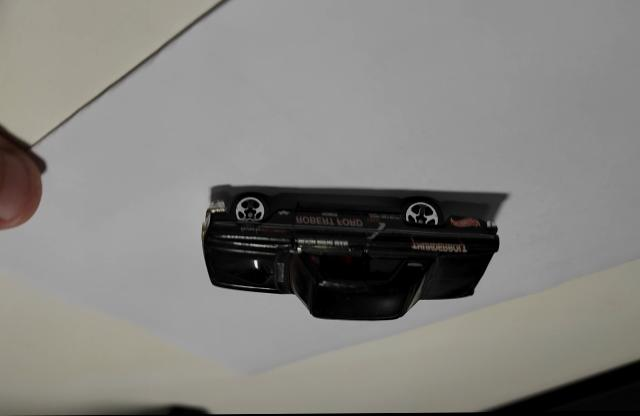01_FORD: (202, 187, 500, 322)
